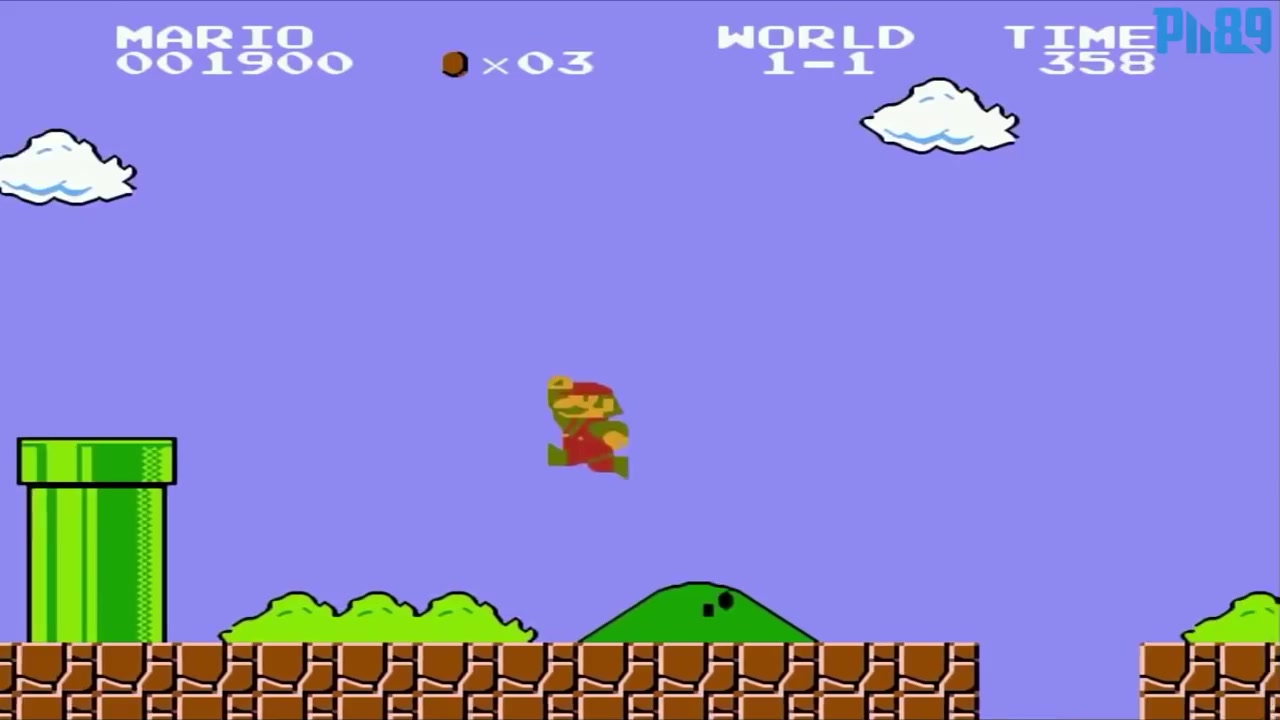mario: (529, 363, 638, 486)
